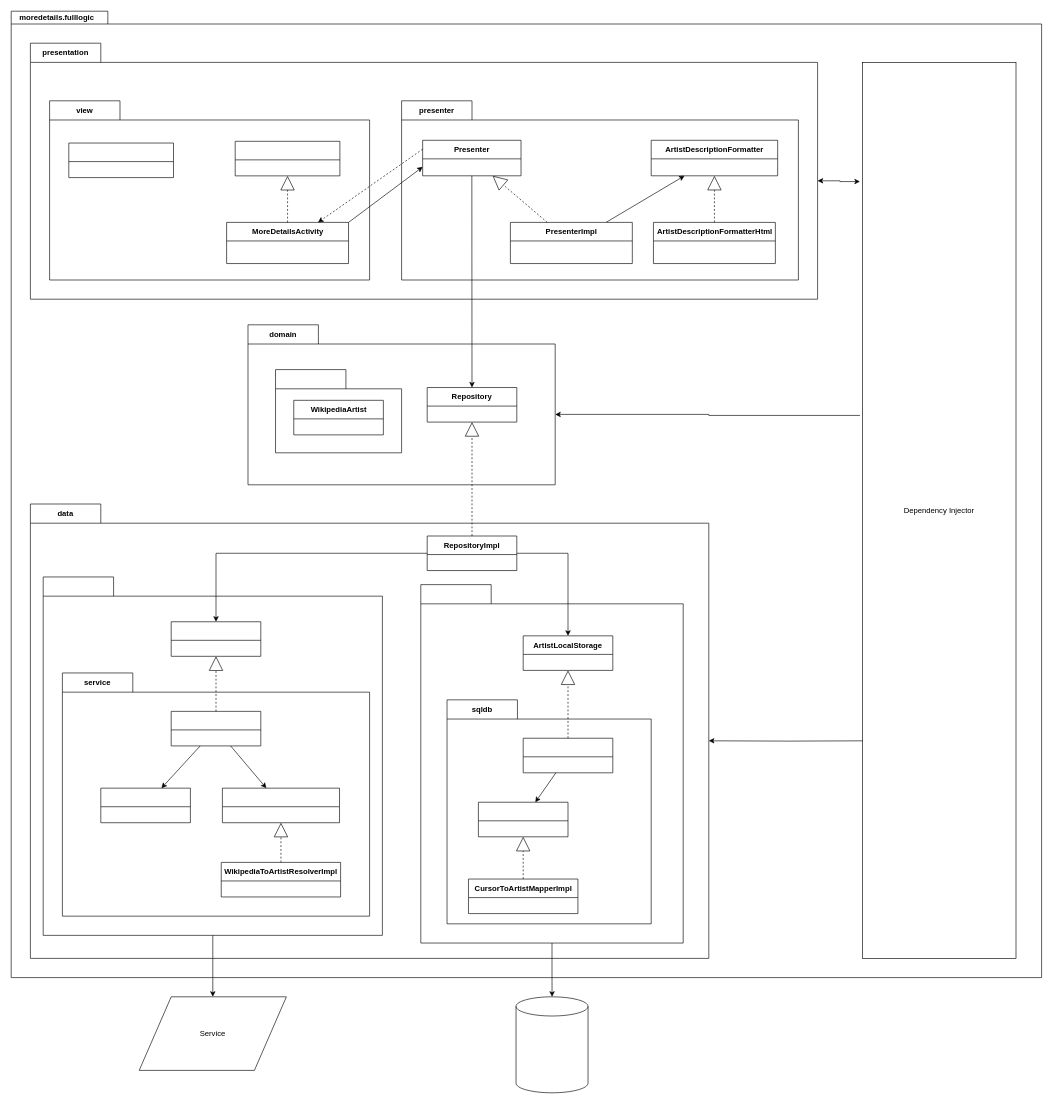
Some shapes in this 1053 by 1104 pixel diagram are drawn without their labels. Here are the shapes that lost their labels. From the top down, the box of each, then its label:
(68, 142, 174, 178): MoredetailsUiState
(235, 141, 340, 176): MoredetailsView
(275, 369, 402, 453): entities
(171, 621, 261, 656): WikipediaService
(171, 711, 261, 746): WikipediaServiceImpl
(43, 576, 382, 935): externalWikipedia
(420, 584, 683, 943): localWkipedia
(523, 738, 613, 773): ArtistLocalStorageImpl
(100, 788, 190, 823): WkipediaAPI
(222, 788, 340, 823): WikipediaToArtistResolver
(478, 802, 568, 837): CursorToArtistMapper
